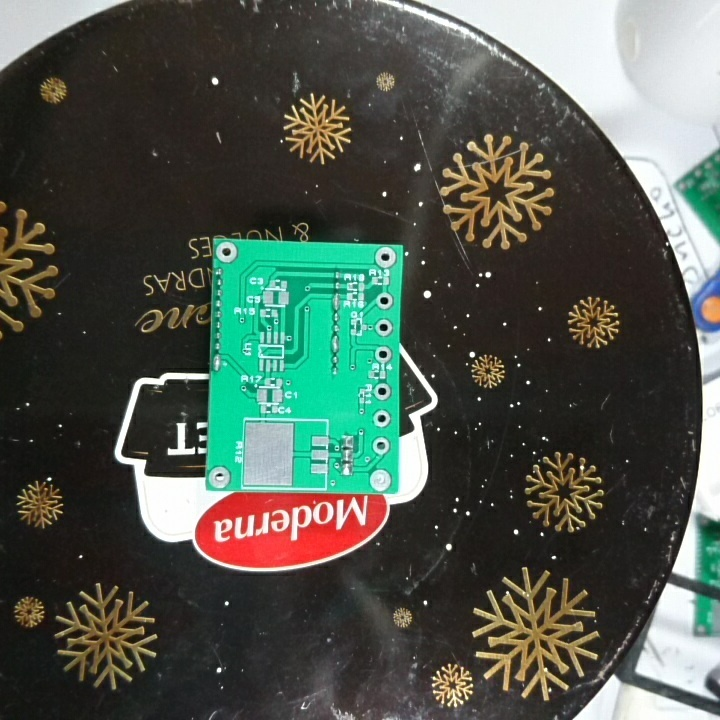F: (214, 240, 239, 265), (208, 463, 232, 489), (368, 468, 392, 492), (373, 245, 396, 269), (369, 435, 392, 456), (373, 317, 394, 338), (371, 408, 392, 429), (372, 345, 394, 365), (372, 381, 393, 401), (375, 291, 394, 312)
P: (331, 291, 344, 315), (211, 353, 222, 375), (329, 334, 340, 355)
